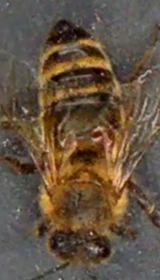varroa_mite: (82, 120, 120, 146)
